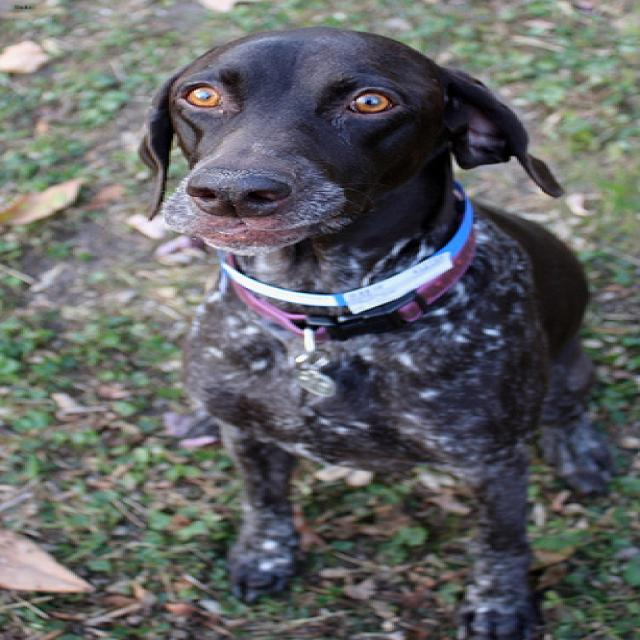dog-german_shorthaired: (127, 20, 621, 637)
